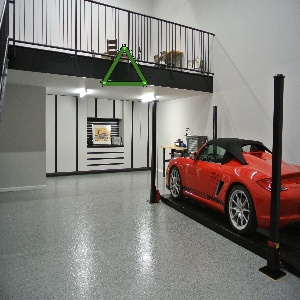triangle: (98, 45, 149, 88)
